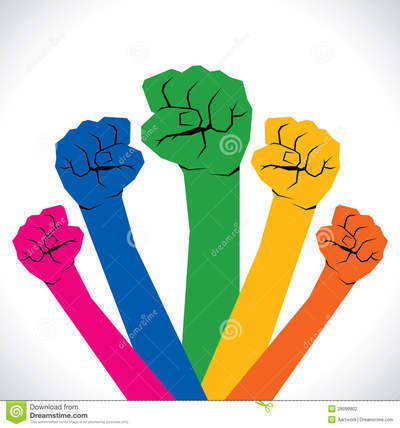closedhandfront: (121, 50, 268, 173), (44, 112, 150, 204), (256, 103, 340, 216), (315, 185, 391, 290), (13, 193, 92, 286)
